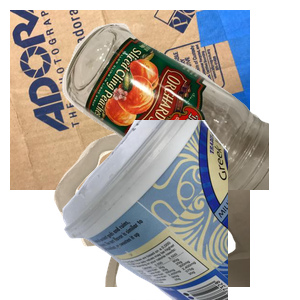cardboard: (10, 10, 250, 190)
glass: (60, 21, 300, 201)
plastic: (60, 120, 300, 300)
trash: (51, 120, 291, 300)
